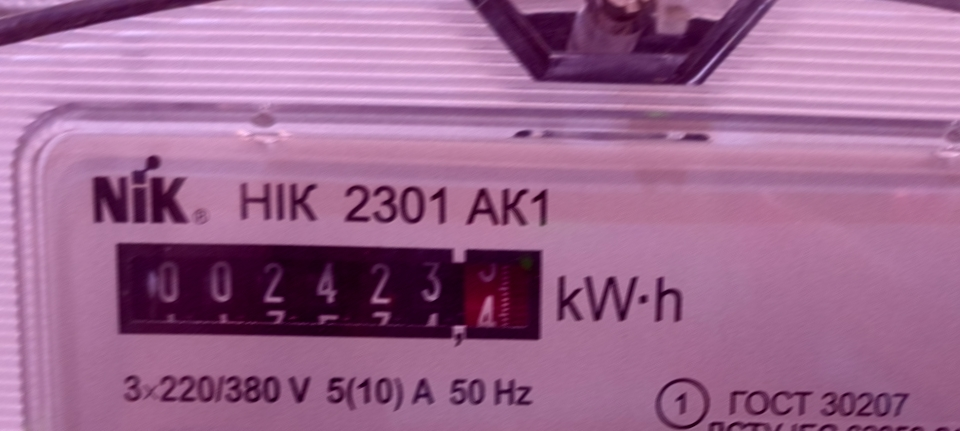0: (154, 255, 182, 304), (207, 257, 233, 303)
2: (259, 257, 286, 304), (366, 259, 391, 305)
3: (418, 257, 442, 302), (476, 259, 497, 282)
4: (313, 258, 337, 304), (473, 290, 499, 328)
screen: (102, 226, 555, 356)
